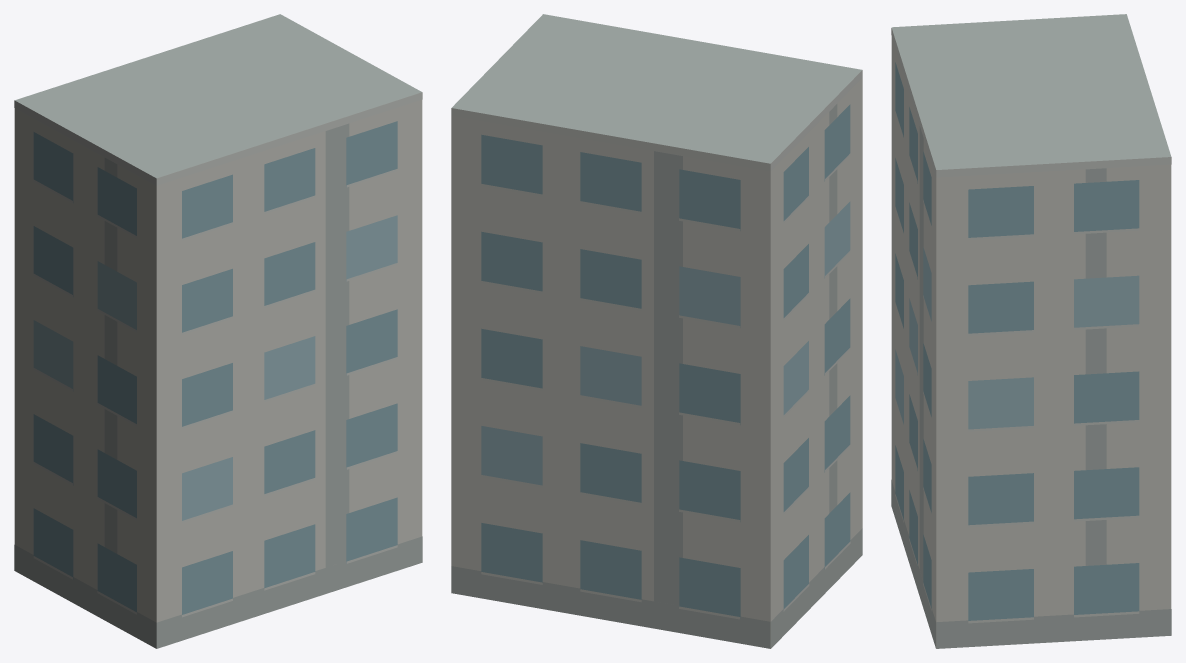
File: residential-e45eded5-6a54-49fd-928e-a5a2e27c0a1e.glb
3 renders of one model, left to right at view 1: azimuth 30°, elevation 25°; view 2: azimuth 150°, elevation 25°; view 3: azimuth 270°, elevation 25°, orthographic. The views are drawn at different scales.
Visible parts, largest first — view 1: residential-e45eded5-6a54-49fd-928e-a5a2e27c0a1e.tmp; view 2: residential-e45eded5-6a54-49fd-928e-a5a2e27c0a1e.tmp; view 3: residential-e45eded5-6a54-49fd-928e-a5a2e27c0a1e.tmp.
Part boxes in pixels (x1,y1,x2,y2): residential-e45eded5-6a54-49fd-928e-a5a2e27c0a1e.tmp: (14, 14, 422, 648); residential-e45eded5-6a54-49fd-928e-a5a2e27c0a1e.tmp: (451, 14, 862, 648); residential-e45eded5-6a54-49fd-928e-a5a2e27c0a1e.tmp: (891, 14, 1171, 648).
Size of the model in its own units: 10.67 by 15.25 by 8.09.
